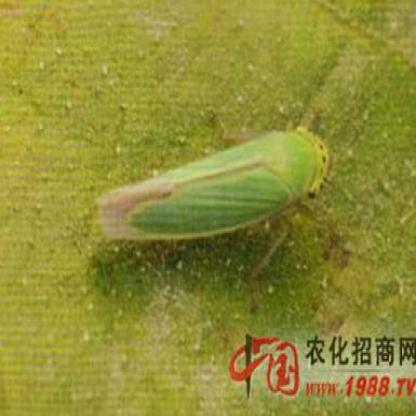Green-Leafhopper: (91, 118, 330, 277)
